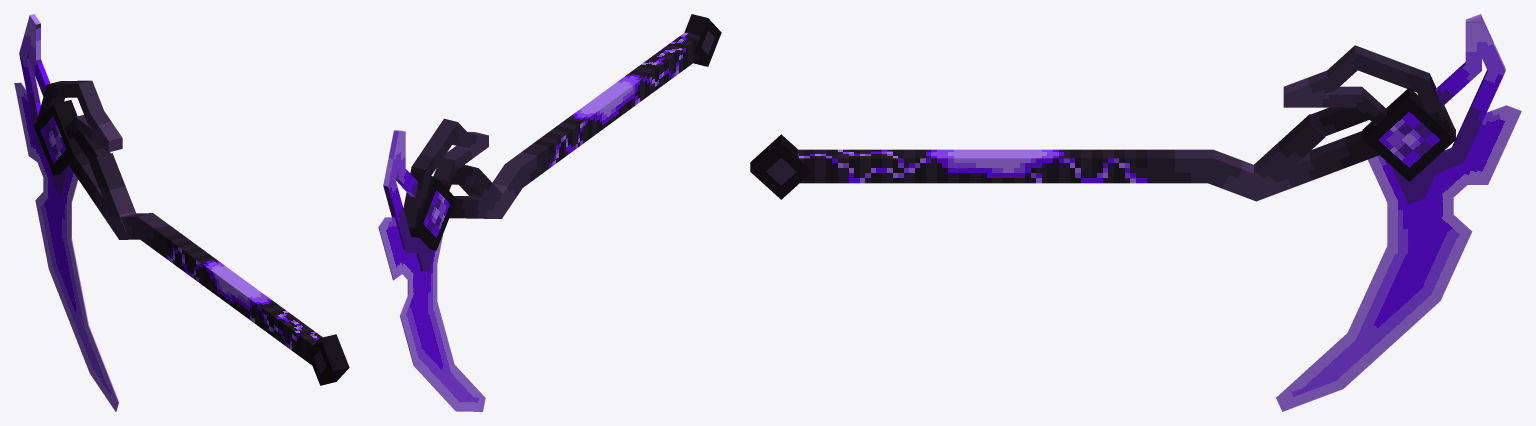
The model's file is abyssal_tidecaller_level_three.glb.
3 views of the same model, side by side, from view 1: azimuth 30°, elevation 25°; view 2: azimuth 150°, elevation 25°; view 3: azimuth 270°, elevation 25° (orthographic). The views are drawn at different scales.
Visible parts, largest first — view 1: main__Tool_R; view 2: main__Tool_R; view 3: main__Tool_R.
Boxes of the visible parts, bbox=[...] form: main__Tool_R: bbox=[14, 14, 349, 411]; main__Tool_R: bbox=[378, 14, 721, 411]; main__Tool_R: bbox=[750, 14, 1521, 411].
Bounding box in the file's own units: 0.0687 × 1.24 × 2.19.
1 material, 1 textured.
